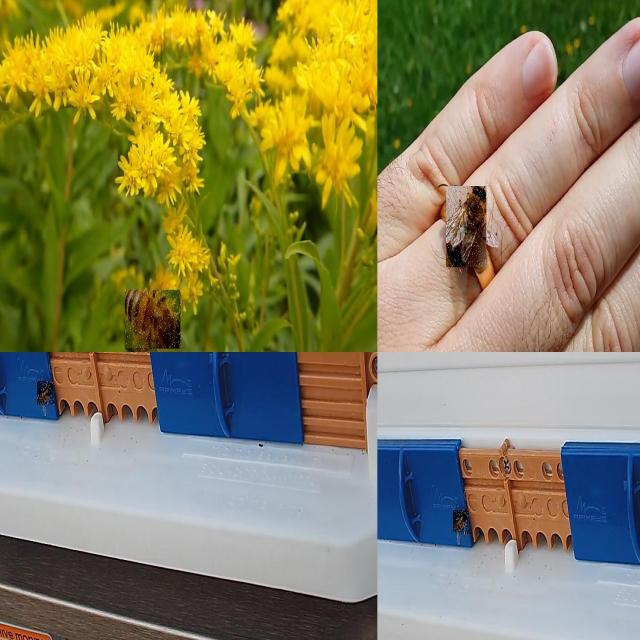honeybee: (128, 289, 179, 354), (444, 188, 484, 268), (454, 511, 468, 537), (36, 386, 55, 403)
